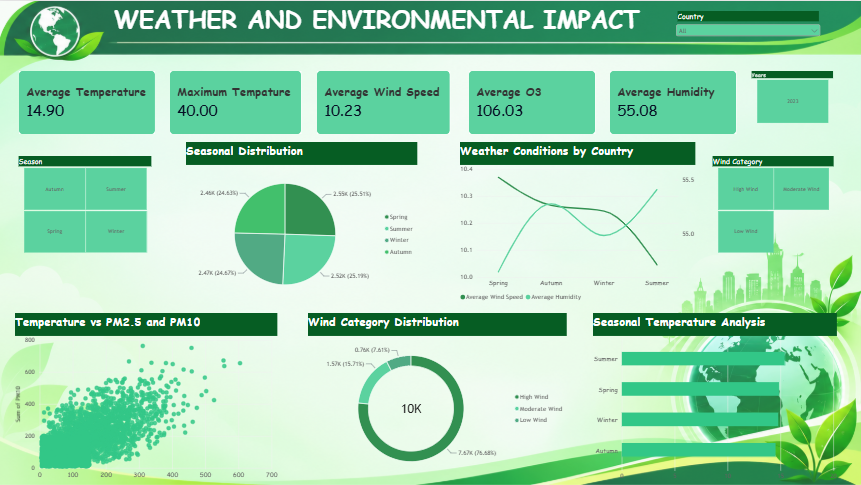

The dashboard page shown, as its layout file describes it:
{"tool":"powerbi","page":{"name":"Page 3","canvas":[1920,1080],"ordinal":2},"visuals":[{"type":"scatterChart","title":"Temperature vs PM2.5 and PM10","fields":{"Category":["cleaned_air_quality.Temperature"],"X":["Sum(cleaned_air_quality.PM2.5)"],"Y":["Sum(cleaned_air_quality.PM10)"]},"box":[41,693.4,583.2,373.7],"z":0},{"type":"cardVisual","fields":{"Data":["cleaned_air_quality.Average Humidity"]},"box":[1363,155.5,280.8,140.4],"z":1000},{"type":"cardVisual","fields":{"Data":["cleaned_air_quality.Average Temperature"]},"box":[49.7,155.5,302.4,140.4],"z":2000},{"type":"textbox","box":[259.2,0,1244.2,95],"z":3000},{"type":"cardVisual","fields":{"Data":["cleaned_air_quality.Average Wind Speed"]},"box":[710.6,155.5,295.9,140.4],"z":4000},{"type":"cardVisual","fields":{"Data":["cleaned_air_quality.Average O3"]},"box":[1049.8,155.5,280.8,140.4],"z":5000},{"type":"cardVisual","fields":{"Data":["cleaned_air_quality.Maximum Tempature"]},"box":[384.5,155.5,291.6,140.4],"z":6000},{"type":"barChart","title":"Seasonal Temperature Analysis","fields":{"Category":["cleaned_date.Season"],"Y":["cleaned_air_quality.Average Temperature"]},"box":[1324.1,693.4,542.2,373.7],"z":7000},{"type":"lineChart","title":"\tWeather Conditions by Country","fields":{"Category":["cleaned_date.Season"],"Y":["cleaned_air_quality.Average Wind Speed"],"Y2":["cleaned_air_quality.Average Humidity"]},"box":[1028.2,313.2,522.7,358.6],"z":8000},{"type":"slicer","fields":{"Values":["cleaned_date.Season"]},"box":[41,343.4,311,216],"z":9000},{"type":"slicer","fields":{"Values":["cleaned_air_quality.Wind Category"]},"box":[1581.1,343.4,285.1,216],"z":10000},{"type":"donutChart","title":"\tWind Category Distribution","fields":{"Category":["cleaned_air_quality.Wind Category"],"Y":["CountNonNull(cleaned_air_quality.AirQualityRecordKey)"]},"box":[691.2,693.4,574.6,373.7],"z":11000},{"type":"pieChart","title":"Seasonal Distribution","fields":{"Category":["cleaned_date.Season"],"Y":["CountNonNull(cleaned_air_quality.AirQualityRecordKey)"]},"box":[419,313.2,514.1,358.6],"z":12000},{"type":"slicer","fields":{"Values":["cleaned_location.Country"]},"box":[1503.4,21.6,330.5,67],"z":13000},{"type":"slicer","fields":{"Values":["cleaned_date.Years"]},"box":[1669.7,155.5,197.1,117.1],"z":14000}]}

Visuals, with their boxes in screenshot pixels (x1, y1, x2, y2), scaled from the page's 1920x1080 canvas onto the 861x485 screenshot:
"Temperature vs PM2.5 and PM10" scatterChart: Rect(18, 311, 280, 479)
cardVisual - cleaned_air_quality.Average Humidity: Rect(611, 70, 737, 133)
cardVisual - cleaned_air_quality.Average Temperature: Rect(22, 70, 158, 133)
textbox: Rect(116, 0, 674, 43)
cardVisual - cleaned_air_quality.Average Wind Speed: Rect(319, 70, 451, 133)
cardVisual - cleaned_air_quality.Average O3: Rect(471, 70, 597, 133)
cardVisual - cleaned_air_quality.Maximum Tempature: Rect(172, 70, 303, 133)
"Seasonal Temperature Analysis" barChart: Rect(594, 311, 837, 479)
"	Weather Conditions by Country" lineChart: Rect(461, 141, 695, 302)
slicer - cleaned_date.Season: Rect(18, 154, 158, 251)
slicer - cleaned_air_quality.Wind Category: Rect(709, 154, 837, 251)
"	Wind Category Distribution" donutChart: Rect(310, 311, 568, 479)
"Seasonal Distribution" pieChart: Rect(188, 141, 418, 302)
slicer - cleaned_location.Country: Rect(674, 10, 822, 40)
slicer - cleaned_date.Years: Rect(749, 70, 837, 122)
